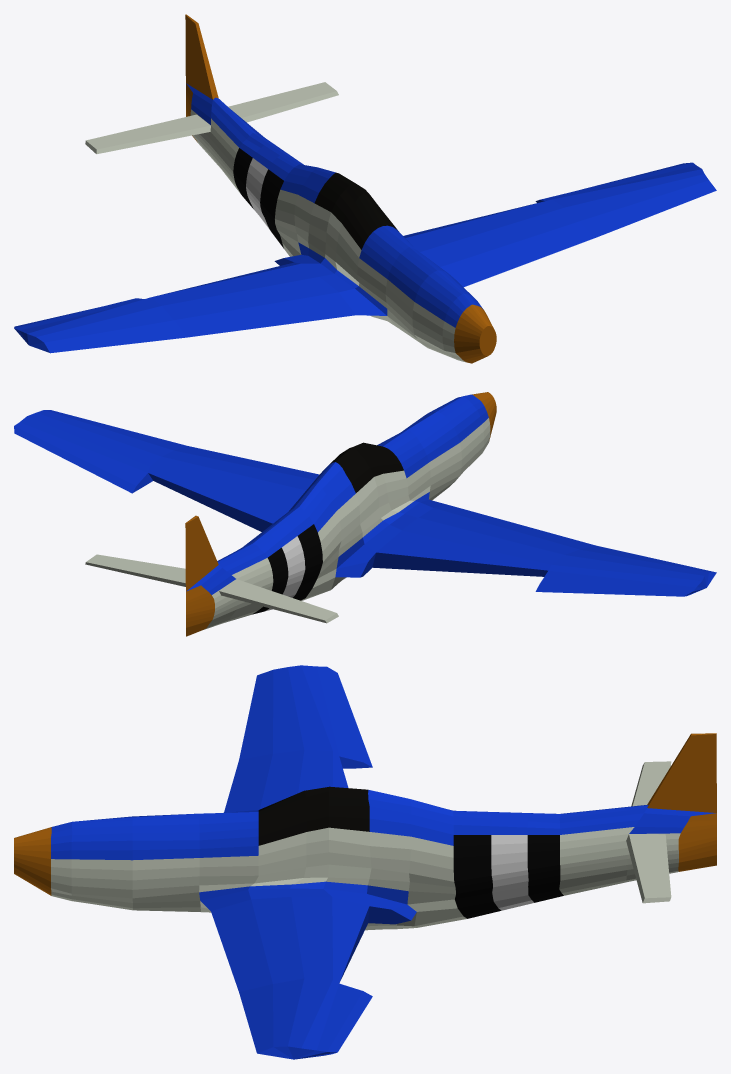
The model's file is body.obj.
3 views of the same model, one above another, from view 1: azimuth 30°, elevation 25°; view 2: azimuth 150°, elevation 25°; view 3: azimuth 270°, elevation 25° (orthographic). The views are drawn at different scales.
Parts seen in each view (by area): view 1: Cylinder; view 2: Cylinder; view 3: Cylinder.
Boxes of the visible parts, box(x1,y1,x2,y2) form: Cylinder: box(14, 14, 716, 363); Cylinder: box(14, 392, 716, 636); Cylinder: box(14, 665, 716, 1059).
Size of the model in its own units: 37.57 by 8.97 by 28.98.
